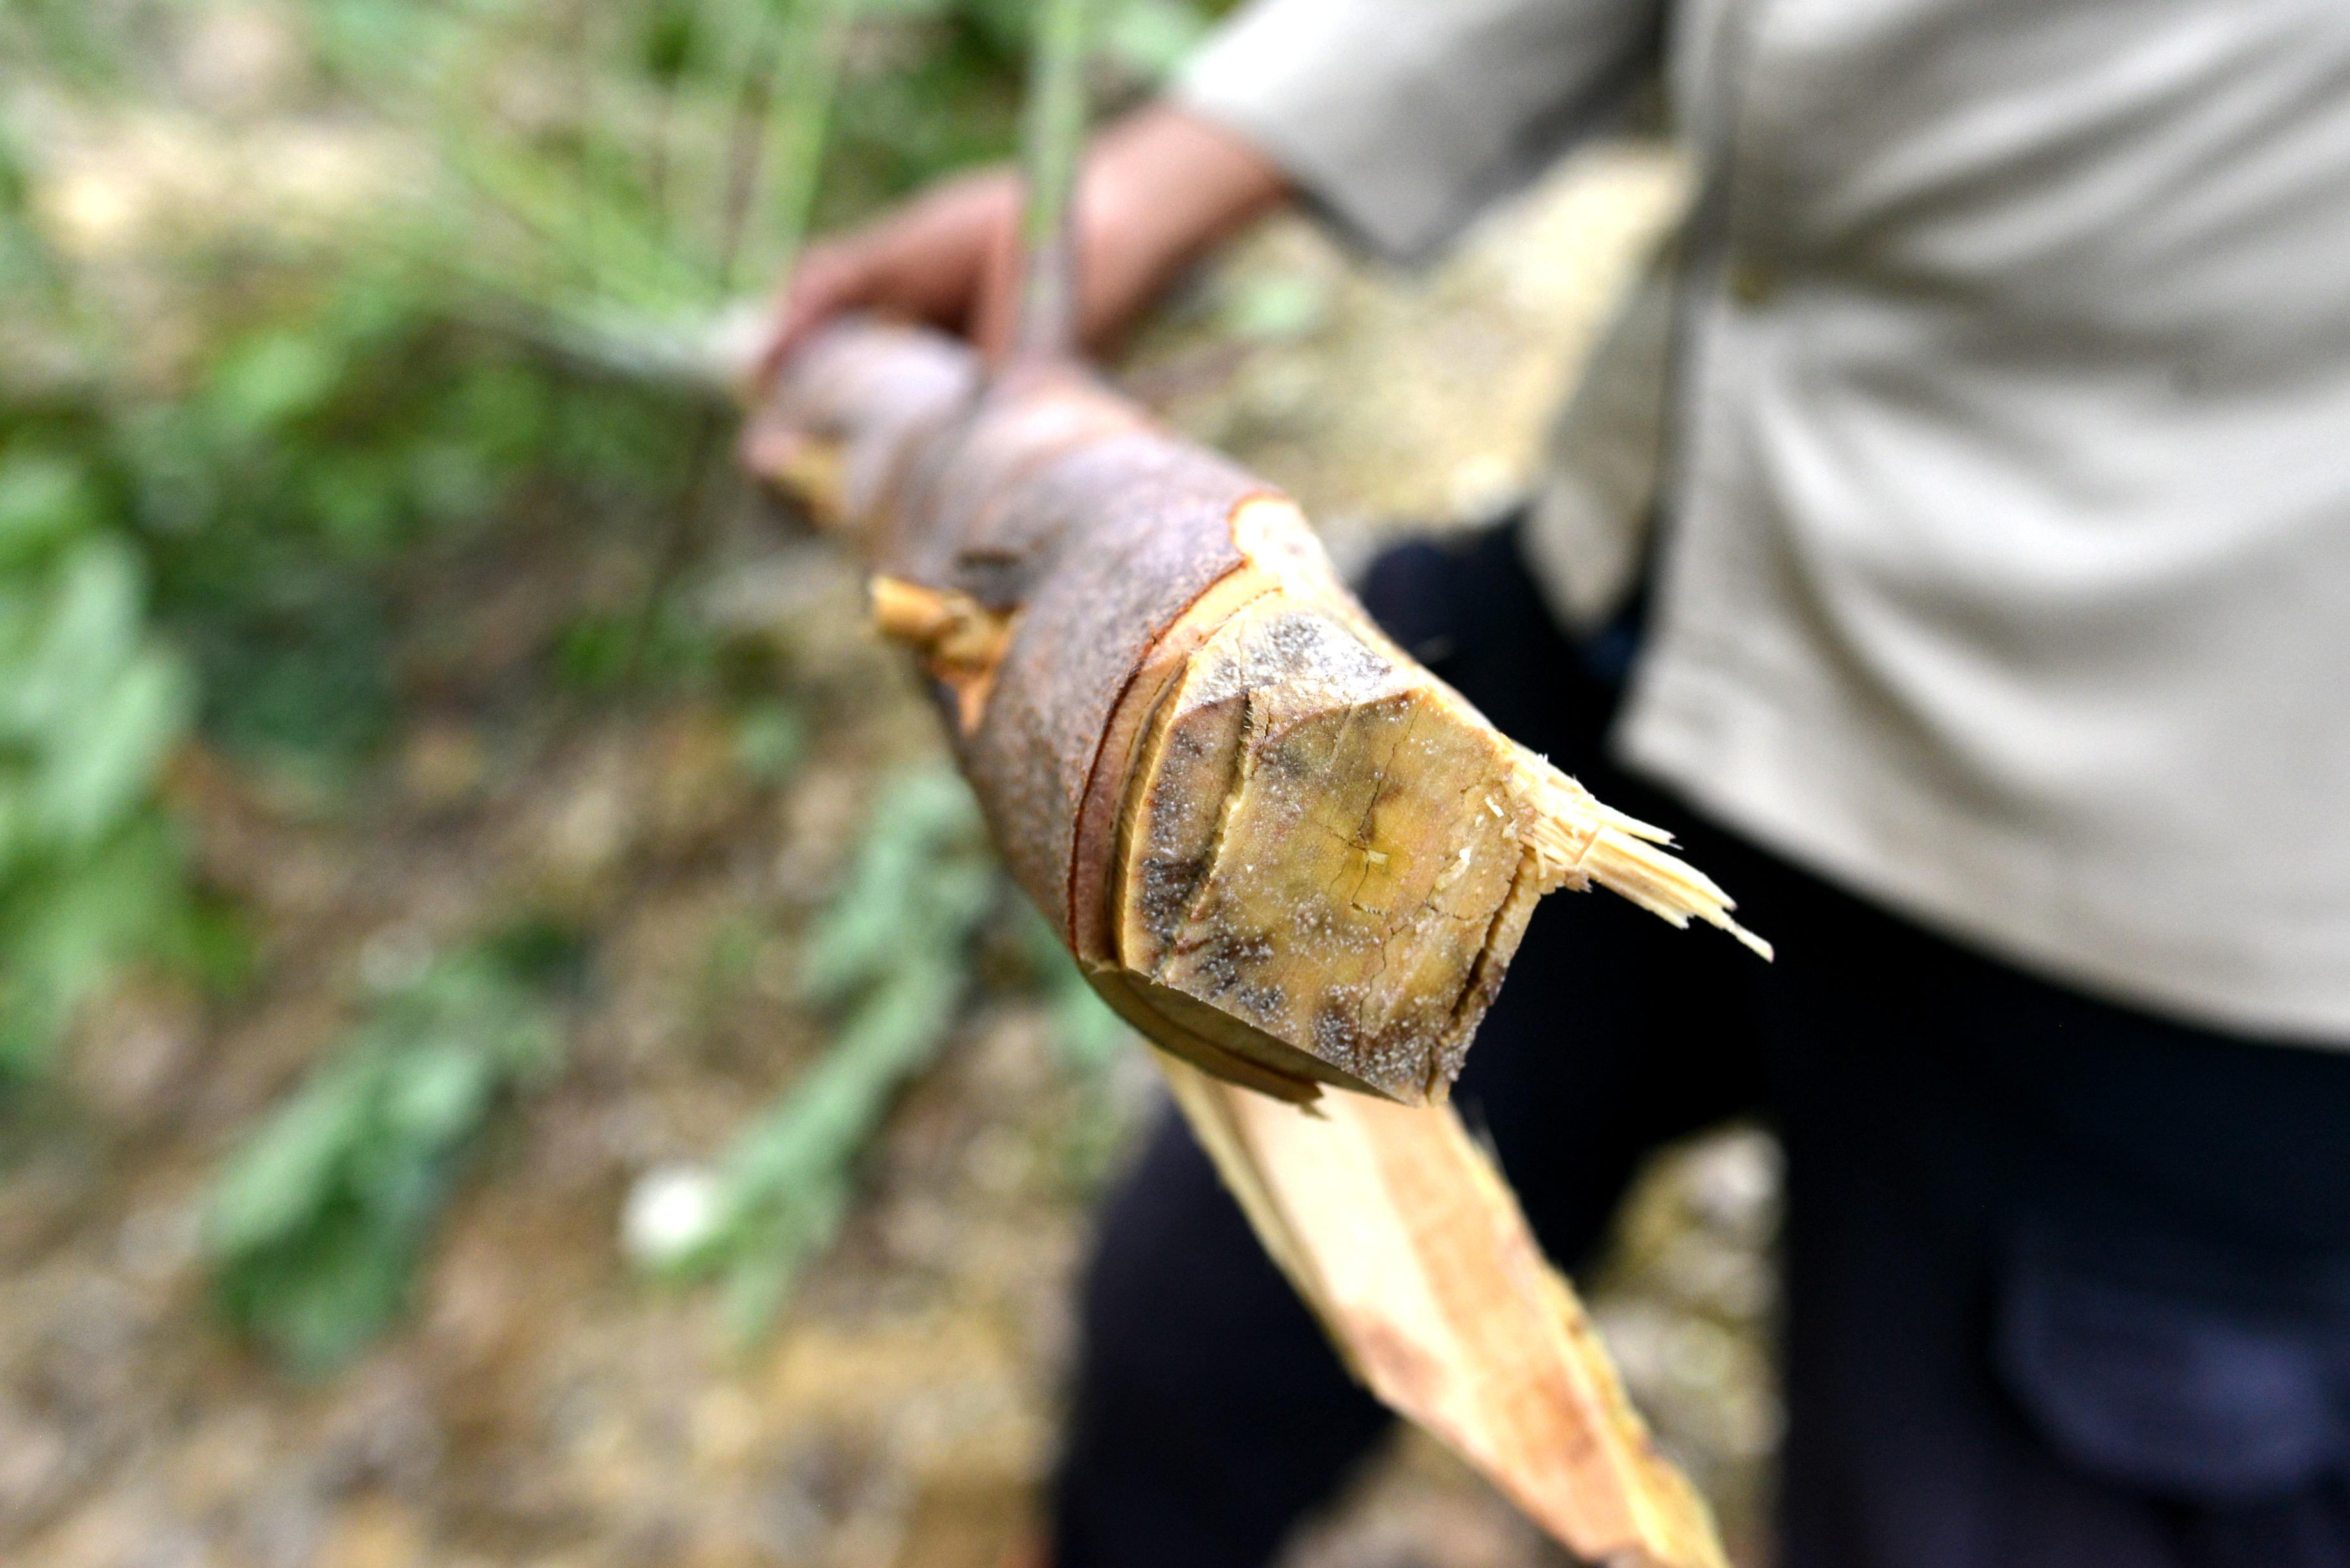Ralstonia: (1169, 597, 1442, 786), (1106, 805, 1307, 1052), (1325, 868, 1514, 1102)
